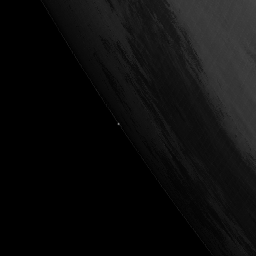Target: (115, 121, 121, 126)
